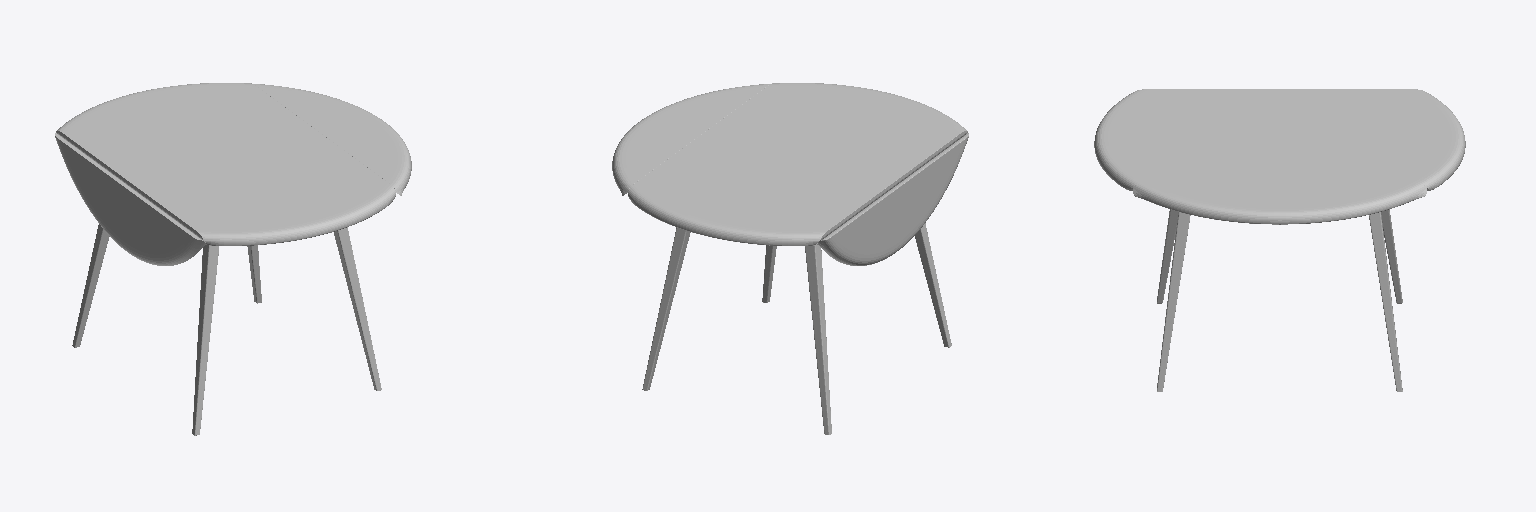
Rendered from desk_2.obj.
The picture shows the model from 3 angles: view 1: azimuth 30°, elevation 25°; view 2: azimuth 150°, elevation 25°; view 3: azimuth 270°, elevation 25°; orthographic projection.
Bounding box in the file's own units: 0.3871 × 0.2965 × 0.4754.